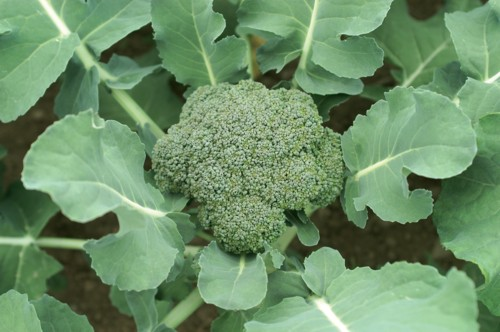broccoli: (150, 78, 347, 256)
